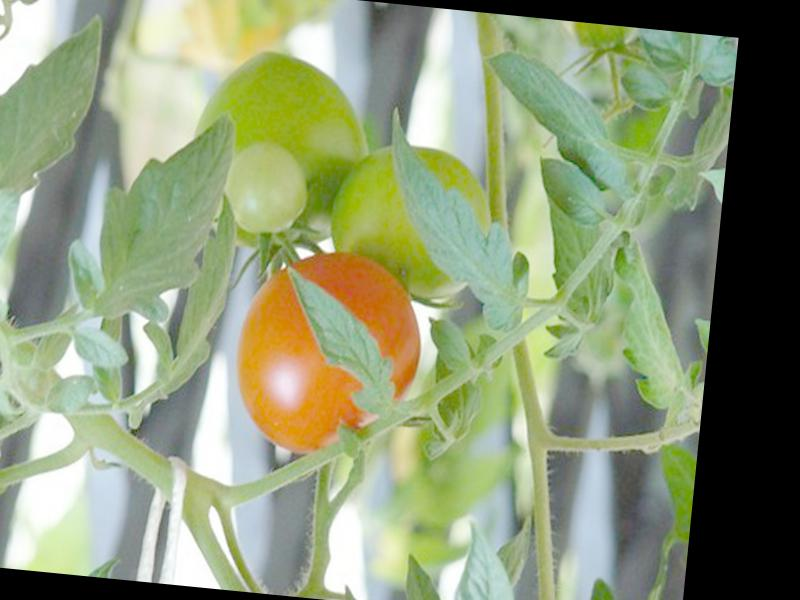Tomato: (227, 245, 428, 464)
